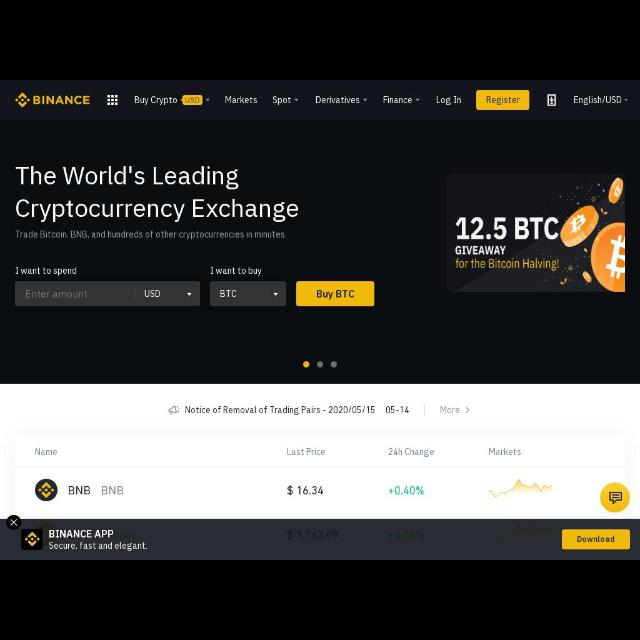button: (602, 482, 630, 512)
icon: (106, 94, 120, 108), (610, 490, 622, 506), (548, 94, 556, 108), (170, 406, 180, 416), (10, 518, 18, 528), (464, 406, 470, 414), (185, 291, 192, 297), (364, 96, 368, 104), (207, 96, 210, 104), (624, 97, 628, 103), (274, 292, 278, 298), (294, 98, 298, 102), (416, 98, 420, 102)
image: (447, 174, 626, 292), (483, 472, 565, 510), (22, 528, 42, 550), (36, 479, 56, 499), (15, 90, 31, 110)
input: (15, 282, 134, 306)
multitab: (128, 87, 474, 115)
pageindicator: (301, 360, 339, 370)
panel: (1, 520, 639, 558)
spinner: (130, 88, 212, 112), (210, 282, 286, 306), (136, 282, 200, 306), (568, 91, 632, 111), (313, 92, 371, 110), (382, 92, 424, 110), (265, 92, 305, 110)
text: (16, 162, 302, 222), (16, 229, 288, 241), (185, 404, 411, 416), (49, 540, 150, 552), (27, 288, 88, 302), (32, 94, 92, 108), (386, 482, 428, 501), (48, 529, 114, 541), (286, 528, 340, 542), (209, 265, 263, 277), (14, 266, 78, 276), (286, 482, 326, 498), (135, 94, 179, 108), (572, 94, 622, 106), (384, 447, 436, 458), (314, 94, 361, 106), (389, 526, 427, 540), (284, 447, 328, 458), (224, 94, 258, 108), (486, 446, 524, 458), (434, 93, 464, 107), (382, 94, 413, 106), (68, 484, 92, 496), (34, 447, 60, 458), (100, 487, 124, 498), (272, 94, 292, 106), (440, 404, 460, 416), (144, 288, 162, 300), (218, 289, 238, 299), (186, 96, 200, 104)
textbutton: (296, 281, 374, 307), (562, 530, 630, 548), (476, 89, 530, 111)
toolbar: (1, 82, 639, 116)
